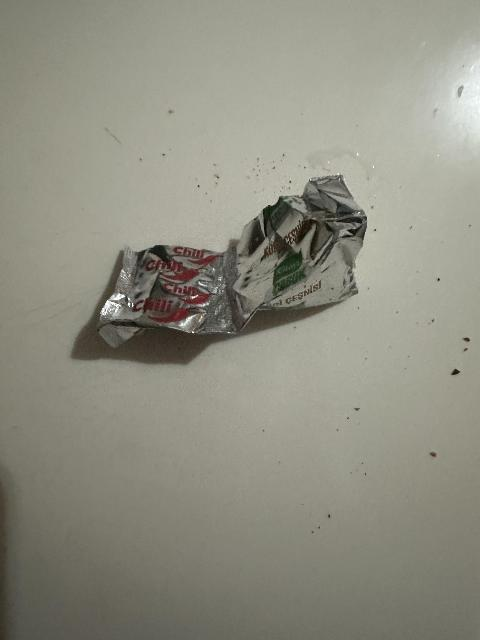Plastik: (76, 183, 359, 354)
